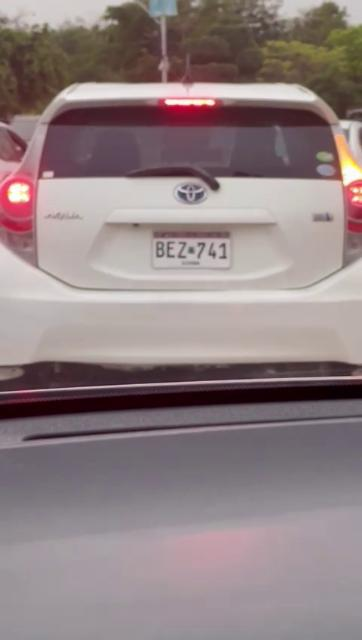plate: (152, 230, 236, 270)
